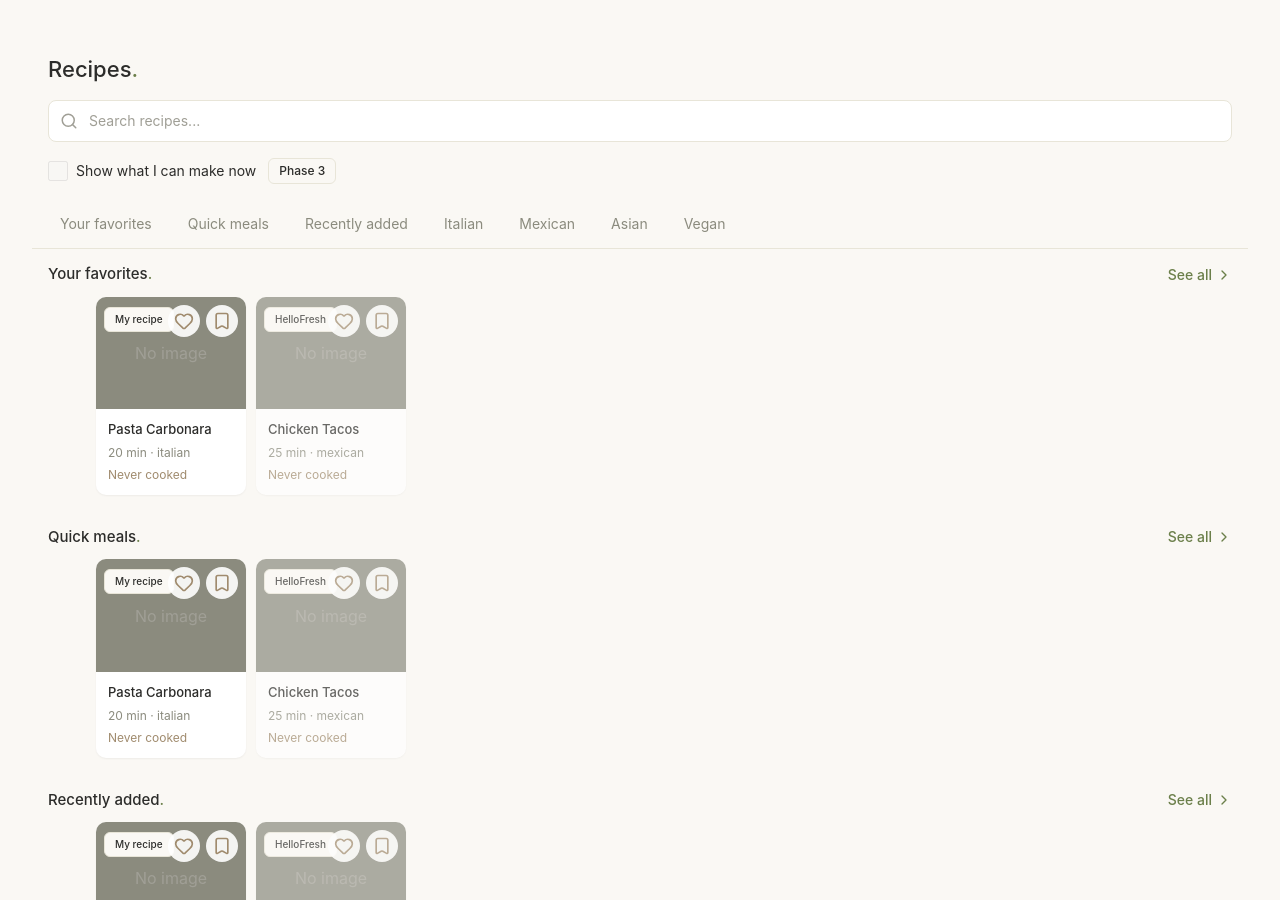
Test case: Recipes Page › view mode state management › handles rapid view mode transitions
The image size is (1280, 900).
# Enter grid mode
Type "test" into the field with placeholder "Search recipes..." at x=640, y=120, box [48,100,1232,142]
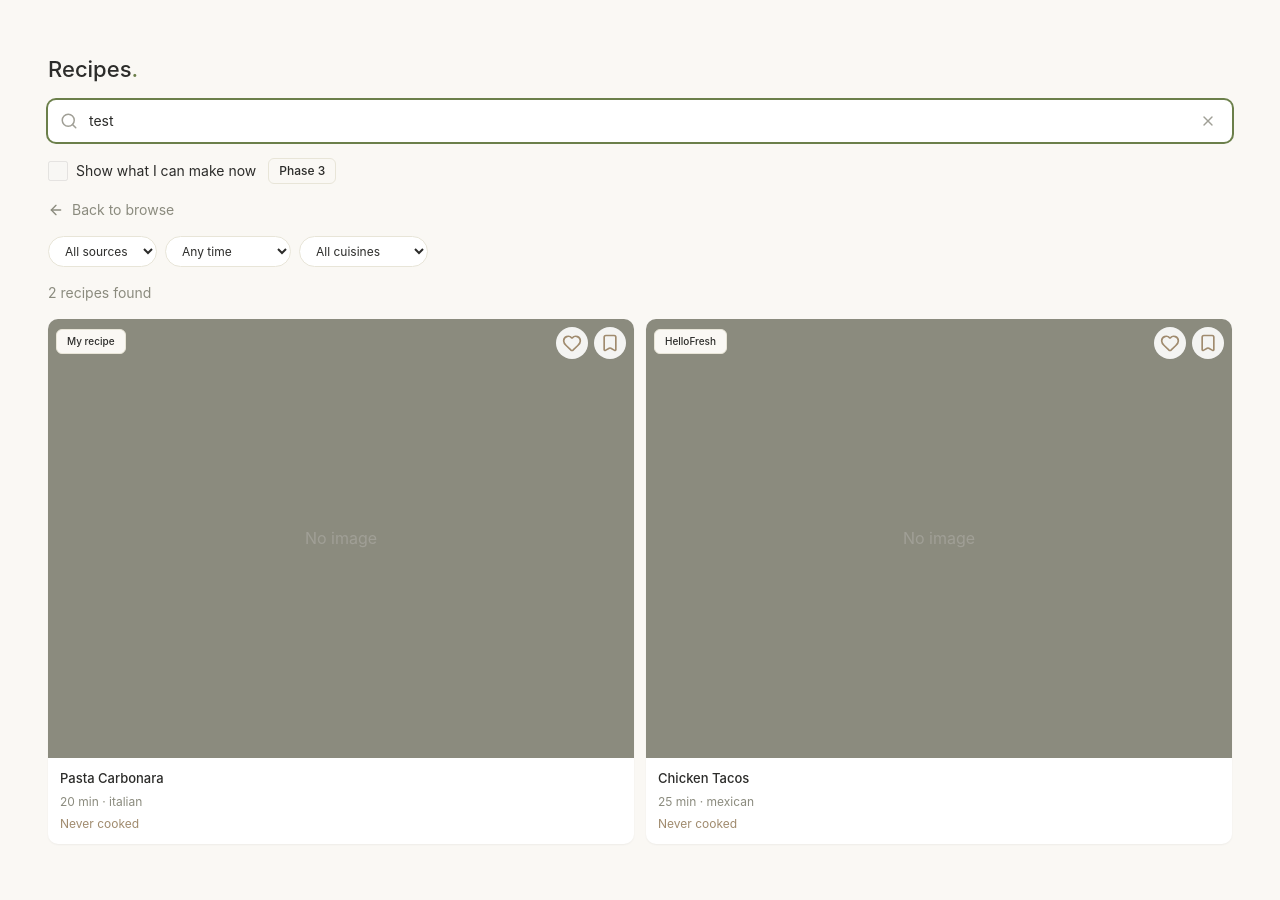
Now the button with aria-label "Back to browse view" is shown
# Back to carousel
Click the button with aria-label "Back to browse view" at x=111, y=210, box [48,200,174,220]
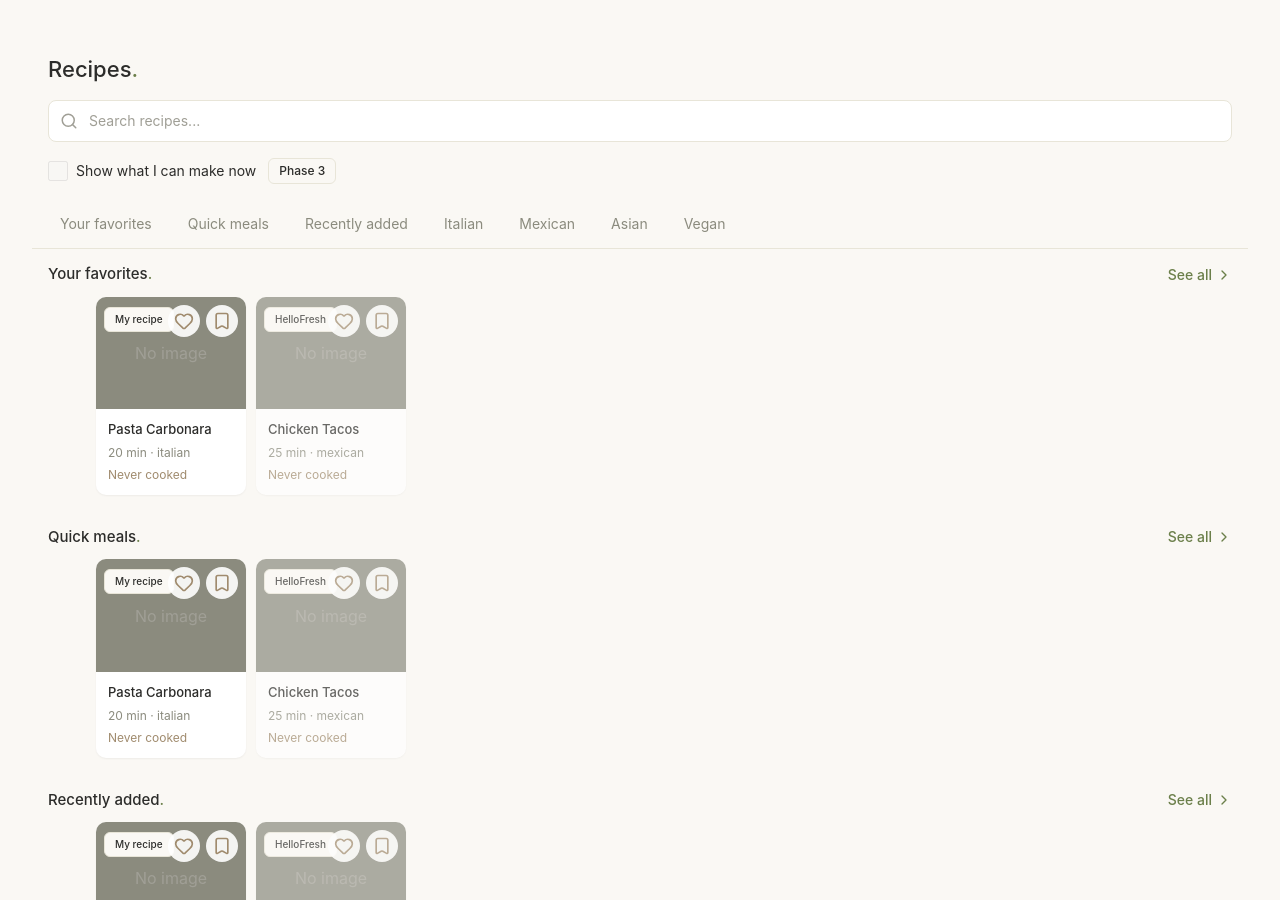
Now the button "Your favorites" is shown, box [48,208,164,240]
# Enter grid mode again via "See all"
Click the 1st button "See all" at x=1200, y=274, box [1168,264,1232,284]
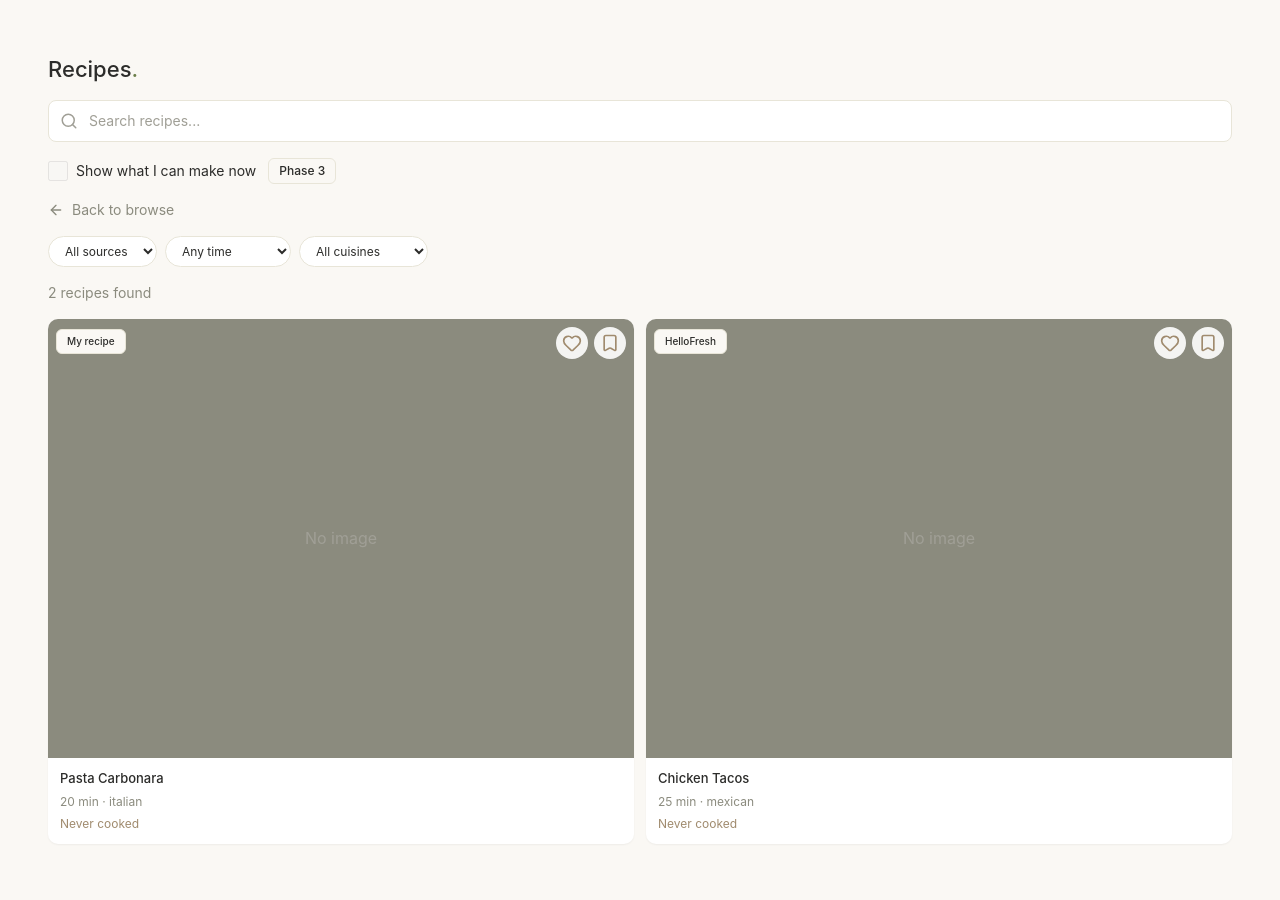
Now the button with aria-label "Back to browse view" is shown, box [48,200,174,220]
